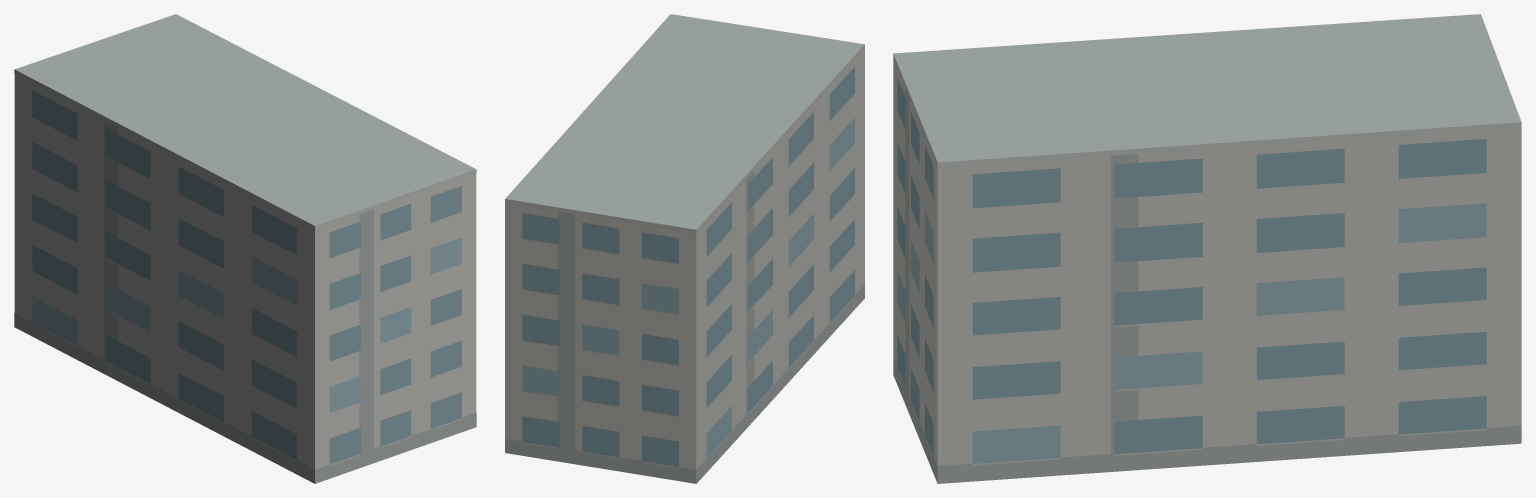
File: survey-upis-32634234.glb
3 views of the same model, side by side, from view 1: azimuth 30°, elevation 25°; view 2: azimuth 150°, elevation 25°; view 3: azimuth 270°, elevation 25° (orthographic). The views are drawn at different scales.
Visible parts, largest first — view 1: survey-upis-32634234.tmp; view 2: survey-upis-32634234.tmp; view 3: survey-upis-32634234.tmp.
Boxes of the visible parts, x1,y1,x2,y2 form: survey-upis-32634234.tmp: (14,14,476,483); survey-upis-32634234.tmp: (505,14,864,483); survey-upis-32634234.tmp: (893,14,1521,483).
Size of the model in its own units: 15.12 by 15.25 by 27.03.
